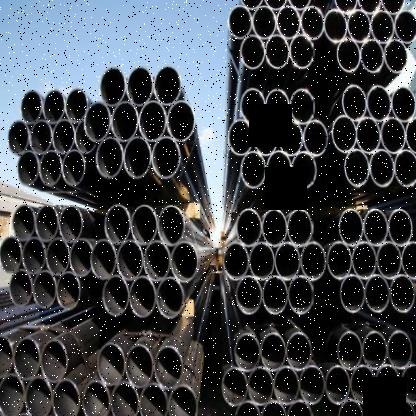pipe: (125, 344, 154, 389), (154, 346, 183, 391), (167, 100, 196, 142), (152, 136, 180, 179), (97, 343, 125, 386), (138, 100, 167, 141), (156, 277, 184, 319), (41, 339, 68, 382), (153, 65, 182, 105), (116, 240, 144, 281), (24, 375, 52, 416), (96, 137, 123, 179), (129, 276, 156, 318), (111, 102, 139, 142), (157, 206, 185, 246), (14, 337, 40, 380), (124, 137, 151, 178), (126, 65, 153, 106), (84, 102, 111, 142), (90, 239, 117, 279), (99, 67, 126, 107), (144, 241, 170, 282), (171, 242, 197, 283), (103, 275, 129, 316), (52, 378, 80, 416), (235, 276, 262, 315), (234, 333, 261, 372), (221, 367, 248, 406), (82, 380, 111, 416), (110, 380, 139, 416), (131, 205, 157, 245), (387, 330, 413, 370), (325, 365, 351, 405), (299, 365, 325, 405), (0, 374, 25, 415), (138, 382, 168, 416), (104, 205, 130, 244), (236, 208, 262, 247), (327, 241, 353, 280), (249, 242, 275, 281), (364, 274, 390, 313), (288, 276, 314, 315), (337, 331, 363, 370), (286, 332, 312, 371), (350, 365, 376, 404), (273, 366, 299, 405), (248, 367, 274, 406), (375, 364, 400, 404), (262, 209, 288, 247), (363, 209, 389, 247), (223, 243, 249, 281), (262, 277, 288, 315), (352, 241, 377, 280), (275, 242, 300, 281), (301, 242, 326, 281), (341, 84, 367, 121), (338, 209, 364, 246), (168, 384, 198, 416), (344, 149, 369, 187), (288, 209, 313, 247), (56, 272, 81, 310), (261, 333, 286, 371), (240, 152, 266, 188), (59, 204, 83, 243), (69, 238, 93, 277), (356, 117, 381, 154), (61, 149, 86, 186), (266, 151, 291, 188), (292, 151, 317, 188), (388, 209, 413, 246), (340, 275, 365, 312), (390, 275, 415, 312), (332, 115, 356, 153), (370, 149, 394, 187), (12, 203, 36, 241), (22, 236, 46, 274), (363, 331, 387, 369), (228, 119, 253, 155), (303, 120, 328, 156), (381, 117, 405, 154), (377, 242, 401, 279), (290, 89, 315, 124), (265, 89, 290, 124), (253, 120, 278, 155), (265, 34, 290, 69), (240, 35, 265, 70), (336, 38, 361, 73), (10, 268, 33, 306), (33, 270, 56, 308), (367, 85, 391, 121), (241, 88, 265, 124), (391, 87, 416, 121), (324, 9, 348, 44), (290, 34, 314, 69), (394, 149, 416, 187), (35, 205, 58, 241), (228, 6, 253, 39), (276, 6, 301, 39), (65, 88, 88, 123), (52, 119, 75, 154), (17, 150, 39, 186), (39, 150, 61, 186), (0, 235, 22, 271), (347, 10, 371, 43), (301, 6, 324, 40), (371, 10, 394, 44), (361, 39, 384, 73), (43, 89, 65, 124), (8, 120, 30, 155), (30, 120, 52, 155), (74, 121, 97, 154), (253, 6, 276, 39), (393, 10, 416, 43), (384, 40, 407, 73), (21, 90, 42, 124), (401, 363, 416, 405), (401, 241, 416, 280), (0, 335, 13, 378), (388, 399, 416, 416), (286, 399, 313, 416), (363, 399, 389, 416), (338, 399, 363, 416), (405, 118, 416, 155), (234, 401, 261, 416), (261, 401, 287, 416), (357, 0, 383, 15), (380, 0, 406, 15), (334, 0, 357, 13), (287, 0, 313, 11), (264, 0, 288, 11), (239, 0, 264, 10)
